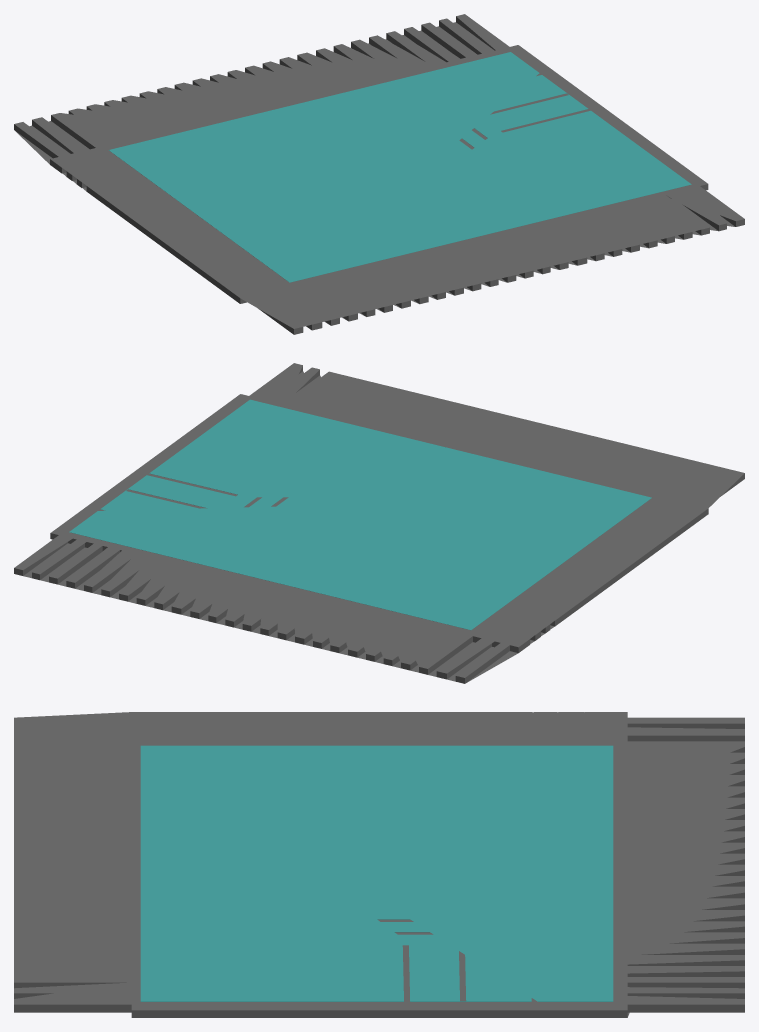
The model's file is BuildingPlot.fbx.
3 renders of one model, top to bottom at view 1: azimuth 30°, elevation 25°; view 2: azimuth 150°, elevation 25°; view 3: azimuth 270°, elevation 25°, orthographic. The views are drawn at different scales.
Visible parts, largest first — view 1: pCube99; view 2: pCube99; view 3: pCube99.
Part boxes in pixels (x1,y1,x2,y2): pCube99: (14, 14, 744, 334); pCube99: (14, 363, 744, 683); pCube99: (14, 712, 744, 1017).
Bounding box in the file's own units: 20.34 × 0.2499 × 21.07.
